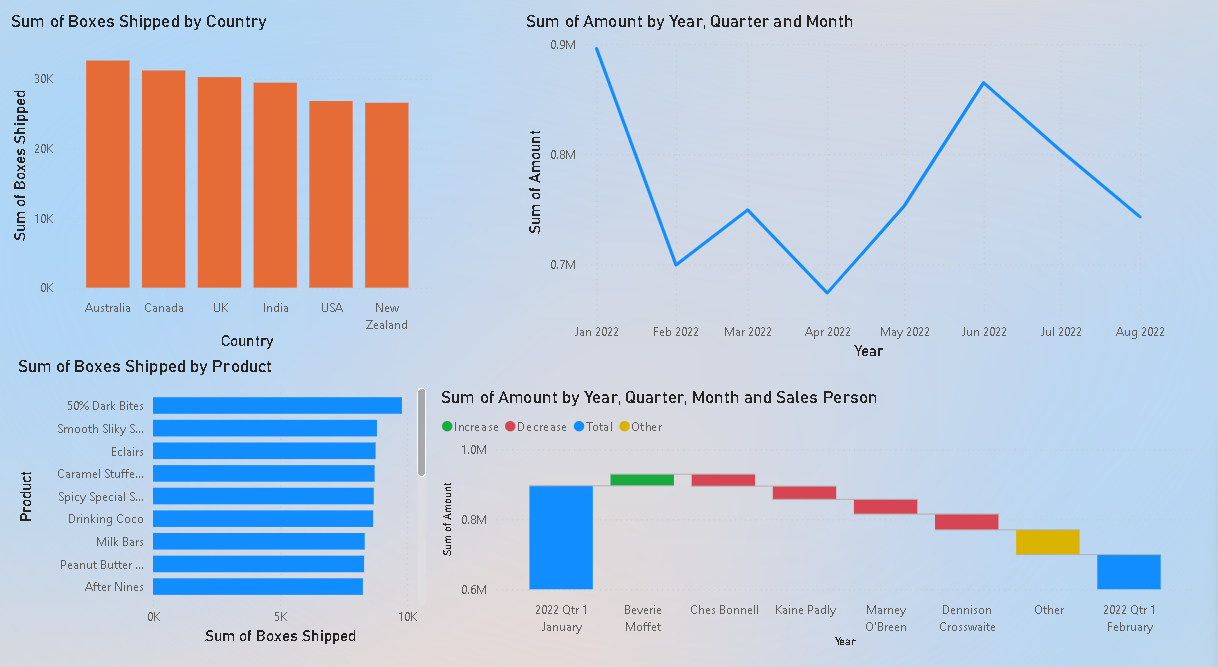

This screenshot's page, from the dashboard's own definition file:
{"tool":"powerbi","page":{"name":"Page 1","canvas":[1280,720],"ordinal":0},"visuals":[{"type":"columnChart","fields":{"Category":["data.Country"],"Y":["data.Boxes Shipped"]},"box":[59.1,43.4,416.2,333],"z":0},{"type":"clusteredBarChart","fields":{"Category":["data.Product"],"Y":["data.Boxes Shipped"]},"box":[65.1,376.4,404.2,284.7],"z":1000},{"type":"lineChart","fields":{"Category":["data.Date.Variation.Date Hierarchy.Year","data.Date.Variation.Date Hierarchy.Quarter","data.Date.Variation.Date Hierarchy.Month","data.Date.Variation.Date Hierarchy.Day"],"Y":["data.Amount"]},"box":[556.2,43.4,627.3,342.6],"z":2000},{"type":"waterfallChart","fields":{"Category":["data.Date.Variation.Date Hierarchy.Year","data.Date.Variation.Date Hierarchy.Quarter","data.Date.Variation.Date Hierarchy.Month"],"Breakdown":["data.Sales Person"],"Y":["data.Amount"]},"box":[474.1,406.6,737.1,257],"z":3000}]}

Visuals, with their boxes in screenshot pixels (x1, y1, x2, y2), scaled from the page's 1280x720 canvas onto the 1218x667 screenshot:
columnChart - data.Country x data.Boxes Shipped: BBox(56, 40, 452, 349)
clusteredBarChart - data.Product x data.Boxes Shipped: BBox(62, 349, 447, 612)
lineChart - data.Date.Variation.Date Hierarchy.Year x data.Date.Variation.Date Hierarchy.Quarter: BBox(529, 40, 1126, 358)
waterfallChart - data.Date.Variation.Date Hierarchy.Year x data.Date.Variation.Date Hierarchy.Quarter: BBox(451, 377, 1153, 615)
